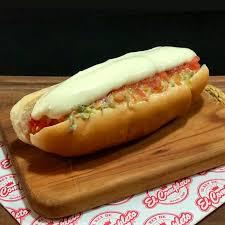Completos: (8, 36, 208, 159)
